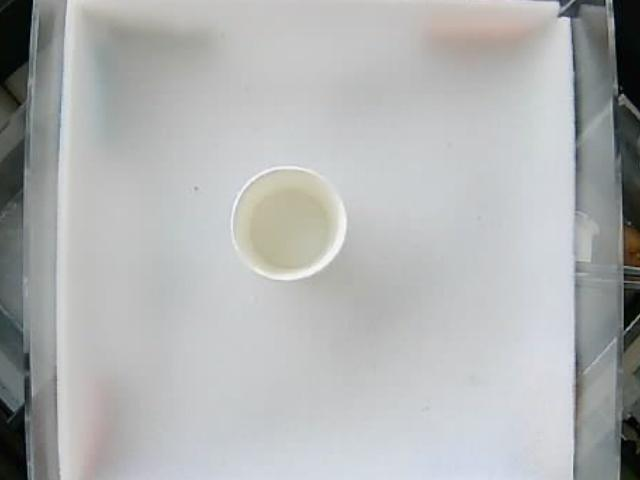Cup: (231, 165, 349, 280)
